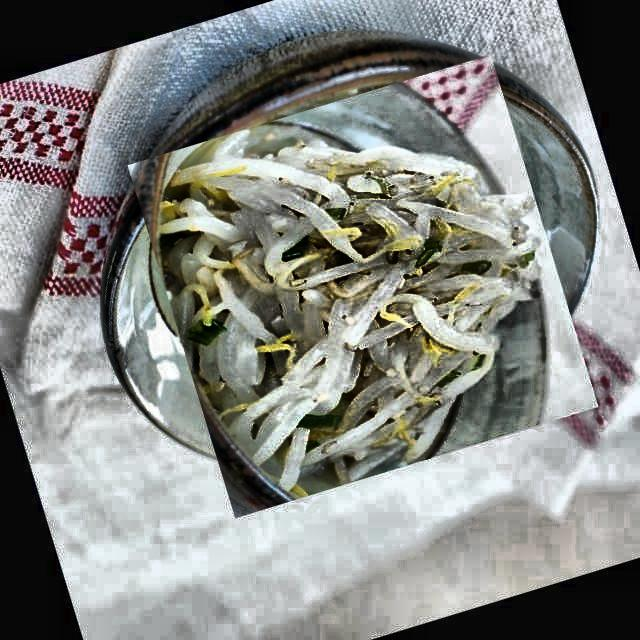Food: (128, 52, 596, 520)
